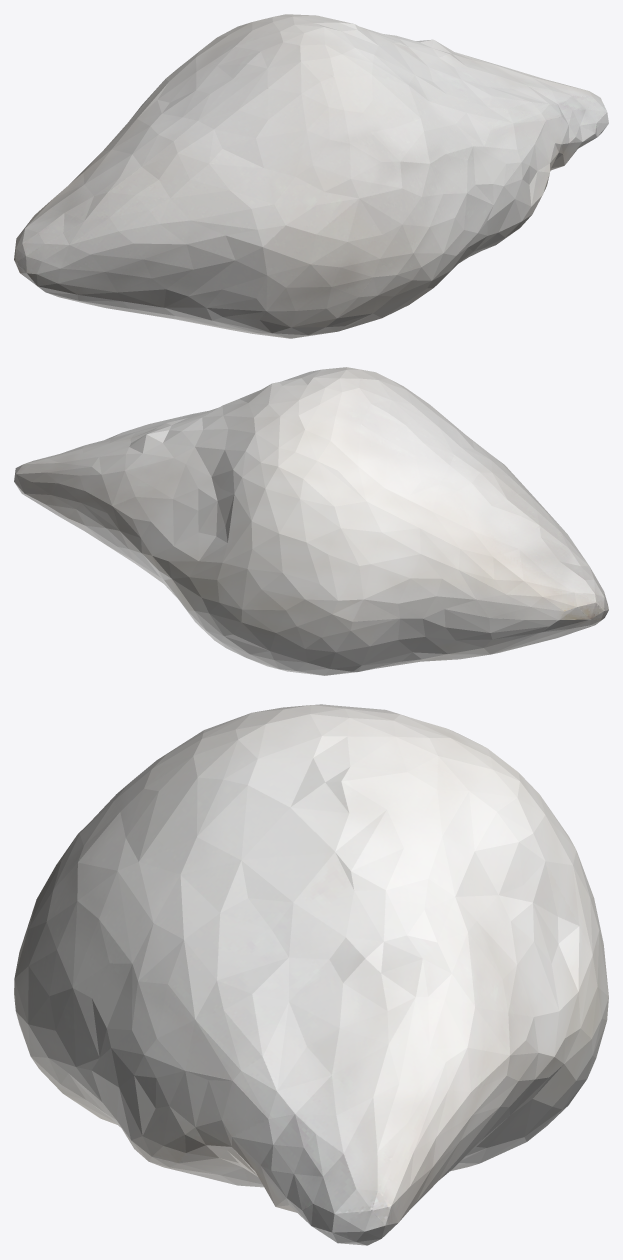
The model's file is Songpyeon.glb.
3 views of the same model, one above another, from view 1: azimuth 30°, elevation 25°; view 2: azimuth 150°, elevation 25°; view 3: azimuth 270°, elevation 25° (orthographic). The views are drawn at different scales.
Visible parts, largest first — view 1: world; view 2: world; view 3: world.
Part boxes in pixels (x1,y1,x2,y2): world: (14,14,608,338); world: (14,367,608,675); world: (14,704,608,1245).
Size of the model in its own units: 0.199 by 0.0841 by 0.1067.
1 material, 1 textured.
